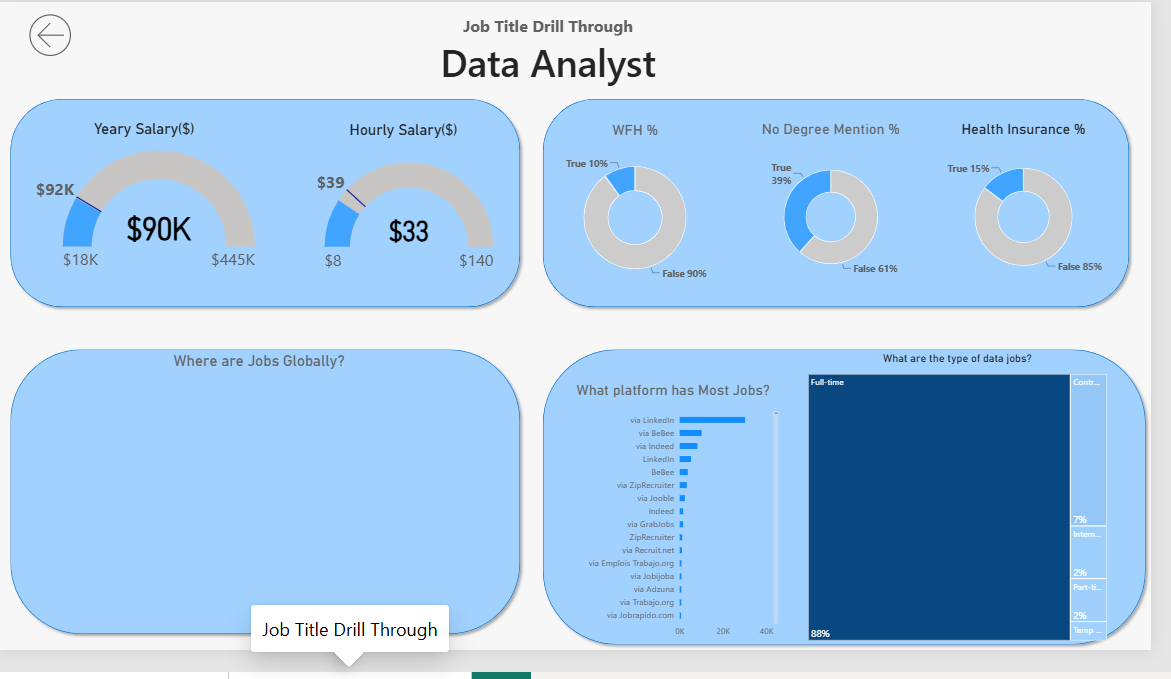

The dashboard page shown, as its layout file describes it:
{"tool":"powerbi","page":{"name":"Job Title Drill Through","canvas":[1920,1080],"ordinal":1},"visuals":[{"type":"group","id":"g1","title":"Background","box":[10,152.5,1910,927.5],"z":0},{"type":"shape","box":[897.5,152.5,995,365],"z":0,"group":"g1"},{"type":"cardVisual","fields":{"Data":["Min(job_postings_flat.job_title_short)"]},"box":[570,12.5,690,138],"z":1000},{"type":"shape","box":[10,152.5,867.5,365],"z":1000,"group":"g1"},{"type":"actionButton","box":[0,0,170,110],"z":2000},{"type":"shape","box":[10,570,867.5,492.5],"z":2000,"group":"g1"},{"type":"gauge","title":"Yeary Salary($)","fields":{"MaxValue":["Max(job_postings_flat.salary_year_avg)2"],"MinValue":["Min(job_postings_flat.salary_year_avg)1"],"TargetValue":["Avg(job_postings_flat.salary_year_avg)"],"Y":["Median(job_postings_flat.salary_year_avg)"]},"box":[40,182.5,402.5,292.5],"z":3000},{"type":"shape","box":[897.5,570,1022.5,510],"z":3000,"group":"g1"},{"type":"gauge","title":"Hourly Salary($)","fields":{"MaxValue":["Max(job_postings_flat.salary_hour_avg)2"],"MinValue":["Min(job_postings_flat.salary_hour_avg)1"],"TargetValue":["Avg(job_postings_flat.salary_hour_avg)3"],"Y":["Median(job_postings_flat.salary_hour_avg)"]},"box":[507.5,185,332.5,307.5],"z":4000},{"type":"donutChart","title":"WFH %","fields":{"Category":["job_postings_flat.job_work_from_home"],"Y":["CountNonNull(job_postings_flat.job_work_from_home)"]},"box":[877.5,185,365,307.5],"z":5000},{"type":"donutChart","title":"No Degree Mention %","fields":{"Category":["job_postings_flat.job_no_degree_mention"],"Y":["CountNonNull(job_postings_flat.job_no_degree_mention)"]},"box":[1242.5,182.5,287.5,310],"z":6000},{"type":"donutChart","title":"Health Insurance %","fields":{"Category":["job_postings_flat.job_health_insurance"],"Y":["CountNonNull(job_postings_flat.job_health_insurance)"]},"box":[1552.5,182.5,310,310],"z":7000},{"type":"map","title":"Where are Jobs Globally?","fields":{"Category":["job_postings_flat.job_country"],"Size":["CountNonNull(job_postings_flat.job_title_short)"]},"box":[27.5,570,812.5,442.5],"z":8000},{"type":"treemap","title":"What are the type of data jobs?","fields":{"Group":["job_postings_flat.job_schedule_type"],"Values":["CountNonNull(job_postings_flat.job_schedule_type)"]},"box":[1332.5,570,530,510],"z":9000},{"type":"barChart","title":"What platform has Most Jobs?","fields":{"Category":["job_postings_flat.job_via"],"Y":["CountNonNull(job_postings_flat.job_via)"]},"box":[932.5,617.5,382.5,462.5],"z":10000}]}

Visuals, with their boxes in screenshot pixels (x1, y1, x2, y2), scaled from the page's 1920x1080 canvas onto the 1171x679 screenshot:
"Background" group: x1=6 y1=96 x2=1170 y2=678
shape: x1=547 y1=96 x2=1154 y2=325
cardVisual - Min(job_postings_flat.job_title_short): x1=348 y1=8 x2=768 y2=95
shape: x1=6 y1=96 x2=535 y2=325
actionButton: x1=0 y1=0 x2=104 y2=69
shape: x1=6 y1=358 x2=535 y2=668
"Yeary Salary($)" gauge: x1=24 y1=115 x2=270 y2=299
shape: x1=547 y1=358 x2=1170 y2=678
"Hourly Salary($)" gauge: x1=310 y1=116 x2=512 y2=310
"WFH %" donutChart: x1=535 y1=116 x2=758 y2=310
"No Degree Mention %" donutChart: x1=758 y1=115 x2=933 y2=310
"Health Insurance %" donutChart: x1=947 y1=115 x2=1136 y2=310
"Where are Jobs Globally?" map: x1=17 y1=358 x2=512 y2=637
"What are the type of data jobs?" treemap: x1=813 y1=358 x2=1136 y2=678
"What platform has Most Jobs?" barChart: x1=569 y1=388 x2=802 y2=678
